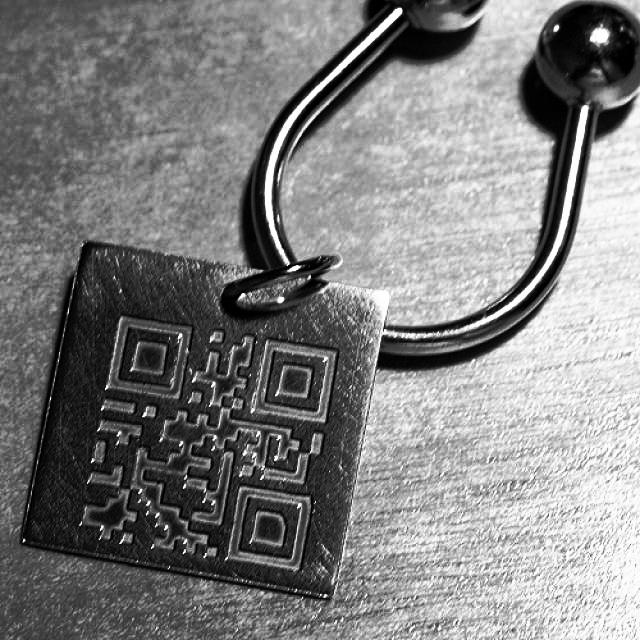qr_code: (77, 315, 339, 572)
